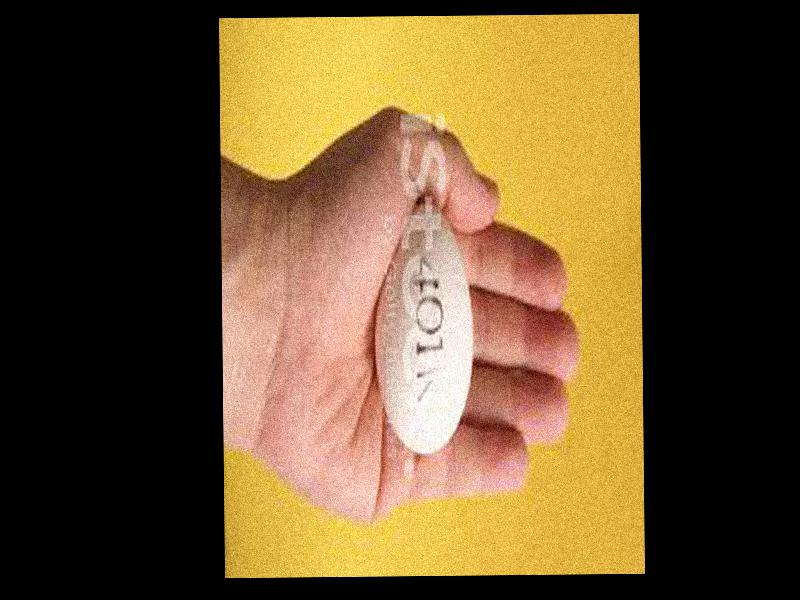Eggs: (374, 202, 473, 454)
